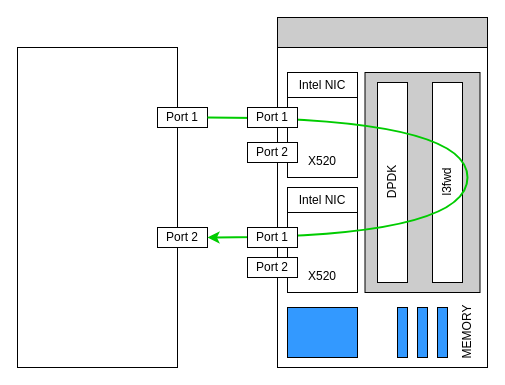
Image size: 505x385. Some labels were removed from this diagram. Each missing label, with the centre of its shape:
CPU: the point at 322,332
LoongArch Debian: the point at 382,32
X86 Server: the point at 97,207
